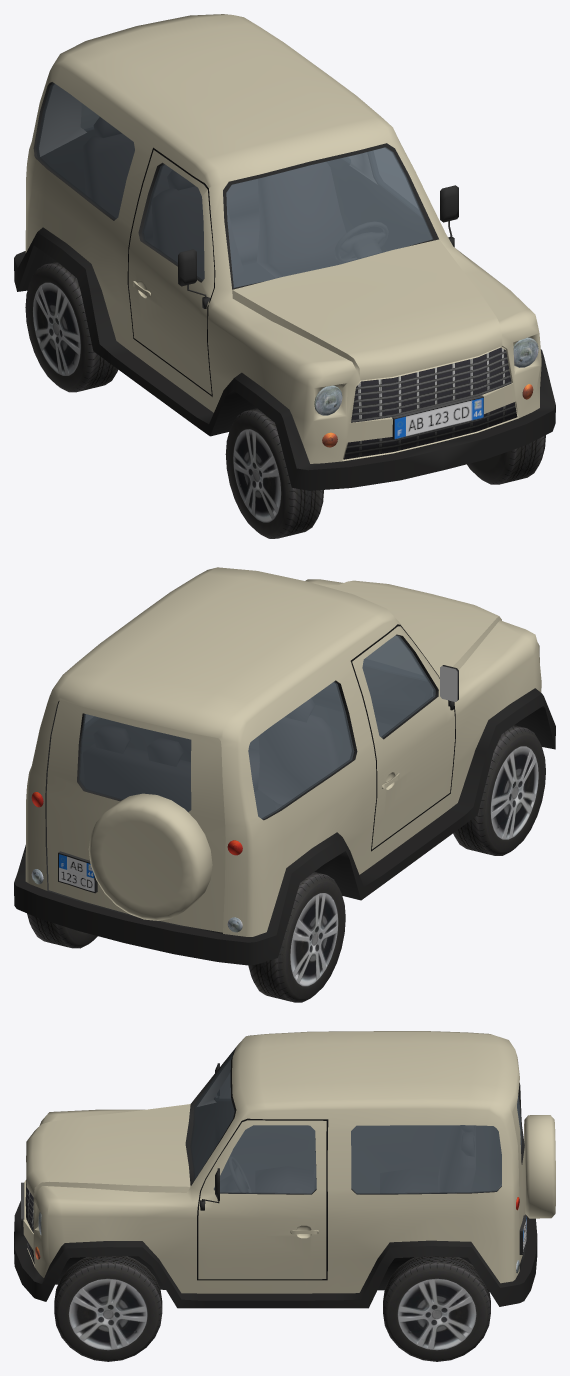
File: sweethome3d-scopia-4x4.glb
3 views of the same model, one above another, from view 1: azimuth 30°, elevation 25°; view 2: azimuth 150°, elevation 25°; view 3: azimuth 270°, elevation 25° (orthographic). The views are drawn at different scales.
Parts seen in each view (by area): view 1: Car_Cube.001, GlassExt_Cube.005, GlassInt_Cube.006, Seating_Cube.002, wheels_Cylinder, InteriorCar_Cube.003, LicensePlate_Cube.012, Rearview_Cube.004, SteeringWheel_Torus, Plane; view 2: Car_Cube.001, GlassExt_Cube.005, GlassInt_Cube.006, wheels_Cylinder, Seating_Cube.002, BackWheel_Cylinder.001, InteriorCar_Cube.003, LicensePlate_Cube.012, Plane, sweethome3d_window_mirror_Cube.007; view 3: Car_Cube.001, GlassExt_Cube.005, wheels_Cylinder, GlassInt_Cube.006, InteriorCar_Cube.003, Seating_Cube.002, BackWheel_Cylinder.001, Plane, SteeringWheel_Torus, LicensePlate_Cube.012.
Boxes of the visible parts, left/top/right/bottom form: Car_Cube.001: left=14, top=14, right=555, bottom=490; GlassExt_Cube.005: left=36, top=83, right=432, bottom=287; GlassInt_Cube.006: left=38, top=84, right=431, bottom=287; Seating_Cube.002: left=83, top=117, right=347, bottom=286; wheels_Cylinder: left=25, top=261, right=545, bottom=538; InteriorCar_Cube.003: left=36, top=83, right=432, bottom=286; LicensePlate_Cube.012: left=392, top=395, right=483, bottom=439; Rearview_Cube.004: left=178, top=185, right=458, bottom=308; SteeringWheel_Torus: left=334, top=222, right=388, bottom=262; Plane: left=127, top=147, right=215, bottom=396; Car_Cube.001: left=14, top=567, right=555, bottom=965; GlassExt_Cube.005: left=79, top=635, right=435, bottom=819; GlassInt_Cube.006: left=80, top=636, right=433, bottom=817; wheels_Cylinder: left=27, top=725, right=545, bottom=1002; Seating_Cube.002: left=83, top=699, right=340, bottom=811; BackWheel_Cylinder.001: left=88, top=793, right=212, bottom=920; InteriorCar_Cube.003: left=79, top=635, right=435, bottom=819; LicensePlate_Cube.012: left=58, top=851, right=97, bottom=893; Plane: left=350, top=624, right=455, bottom=851; sweethome3d_window_mirror_Cube.007: left=440, top=666, right=457, bottom=701; Car_Cube.001: left=14, top=1031, right=537, bottom=1308; GlassExt_Cube.005: left=190, top=1050, right=521, bottom=1194; wheels_Cylinder: left=54, top=1256, right=490, bottom=1361; GlassInt_Cube.006: left=192, top=1056, right=518, bottom=1192; InteriorCar_Cube.003: left=190, top=1050, right=521, bottom=1194; Seating_Cube.002: left=255, top=1125, right=475, bottom=1193; BackWheel_Cylinder.001: left=524, top=1115, right=555, bottom=1218; Plane: left=197, top=1118, right=328, bottom=1280; SteeringWheel_Torus: left=220, top=1157, right=251, bottom=1192; LicensePlate_Cube.012: left=21, top=1182, right=526, bottom=1254.
Size of the model in its own units: 186 by 194 by 382.
Materials: 22 (5 with a texture image).
